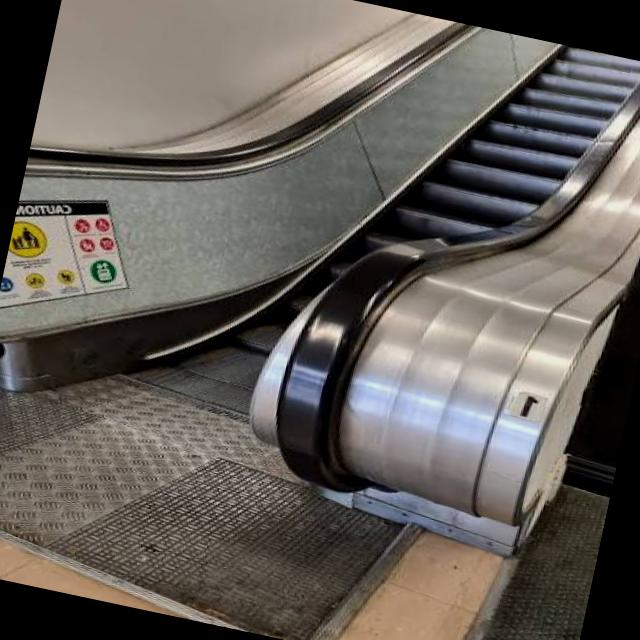escalator: (0, 1, 640, 640)
